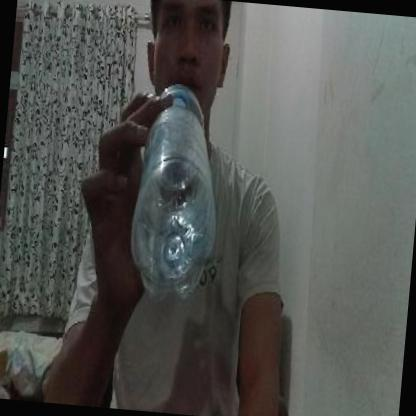plastic_bottles: (127, 84, 232, 298)
